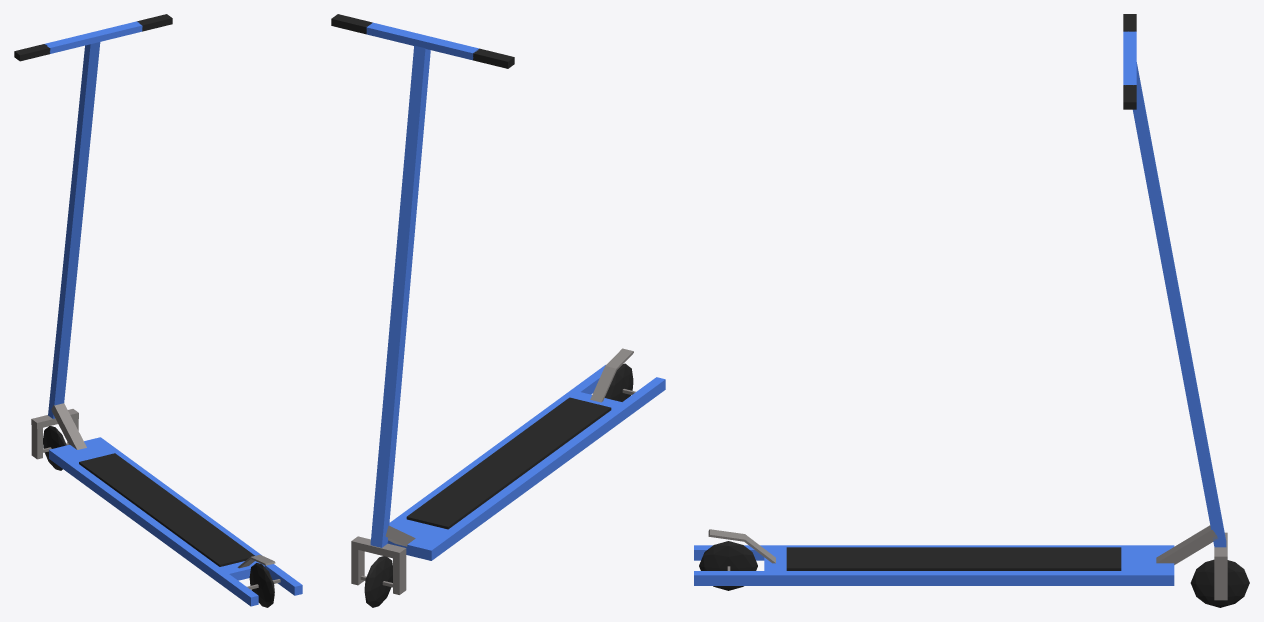
File: Trotinette.gltf
3 views of the same model, side by side, from view 1: azimuth 30°, elevation 25°; view 2: azimuth 150°, elevation 25°; view 3: azimuth 270°, elevation 25° (orthographic). The views are drawn at different scales.
Visible parts, largest first — view 1: node-0; view 2: node-0; view 3: node-0.
Boxes of the visible parts, left/top/right/bottom form: node-0: left=14, top=14, right=302, bottom=607; node-0: left=331, top=14, right=665, bottom=607; node-0: left=694, top=14, right=1249, bottom=607.
Bounding box in the file's own units: 1.97 × 5.7 × 5.22.
